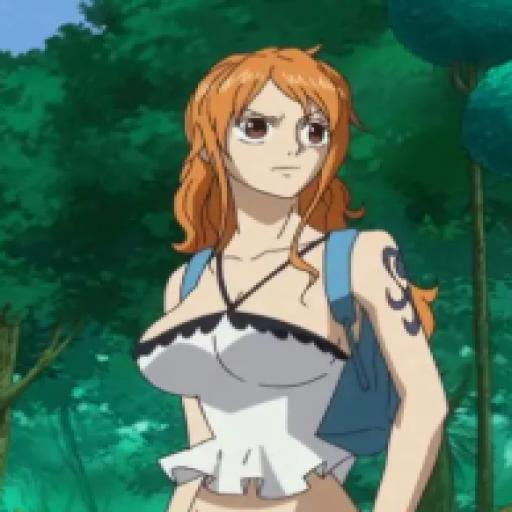Nami: (131, 39, 472, 512)
